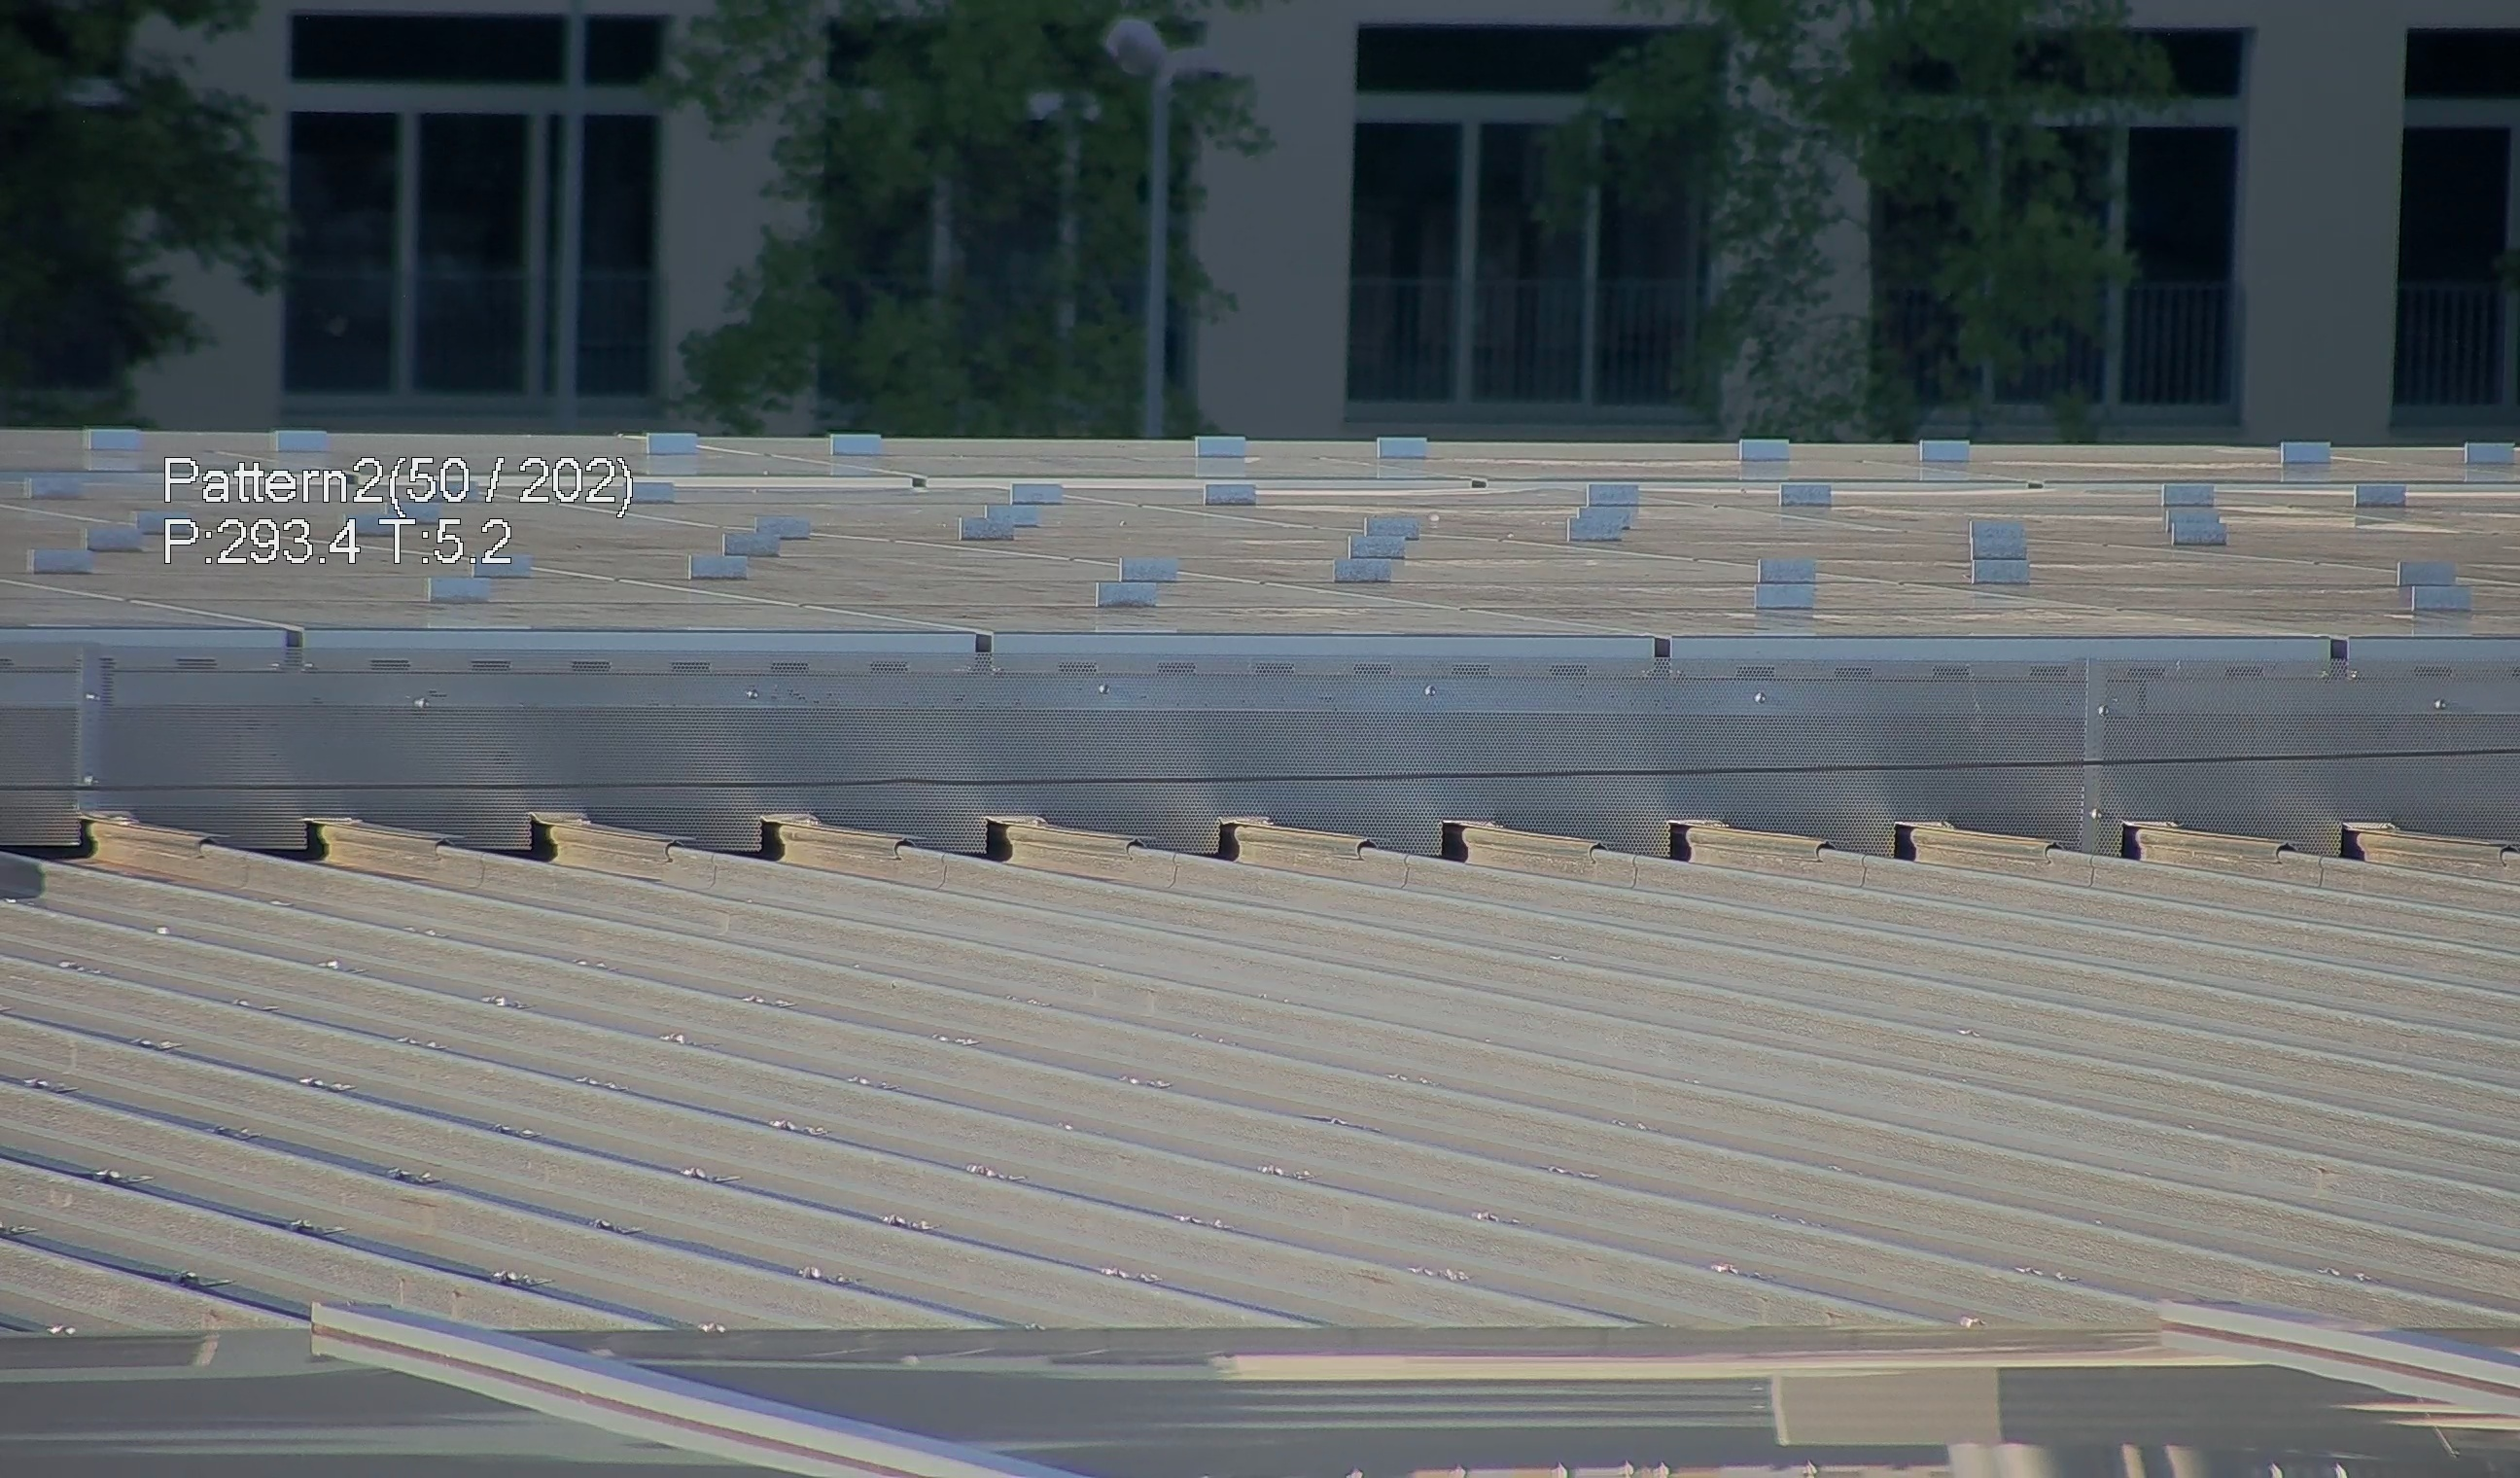Other: (494, 806, 556, 864)
